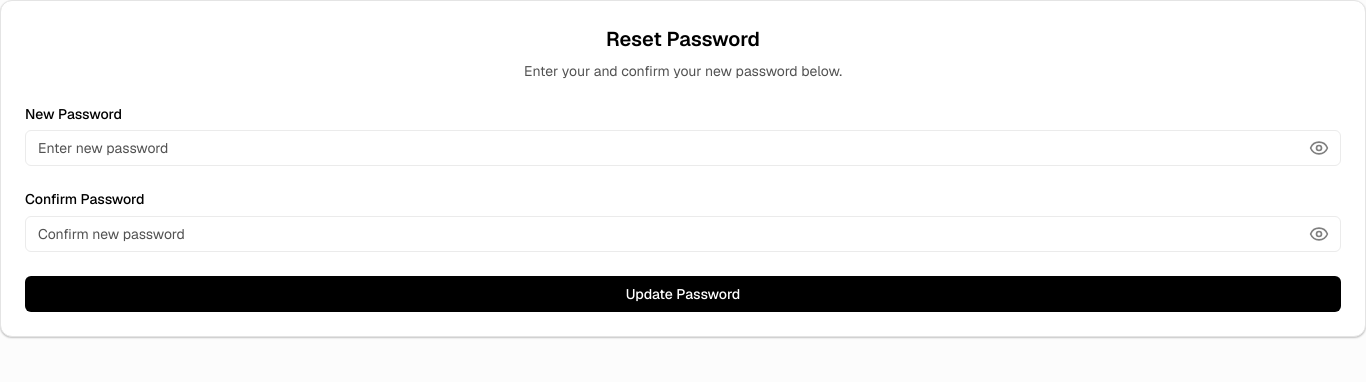
Test: ResetPasswordForm (new) › validates that confirm password matches the password
Type "Password123!" into the password field labelled "New Password". click: (683, 148)
box: [25,130,1341,166]
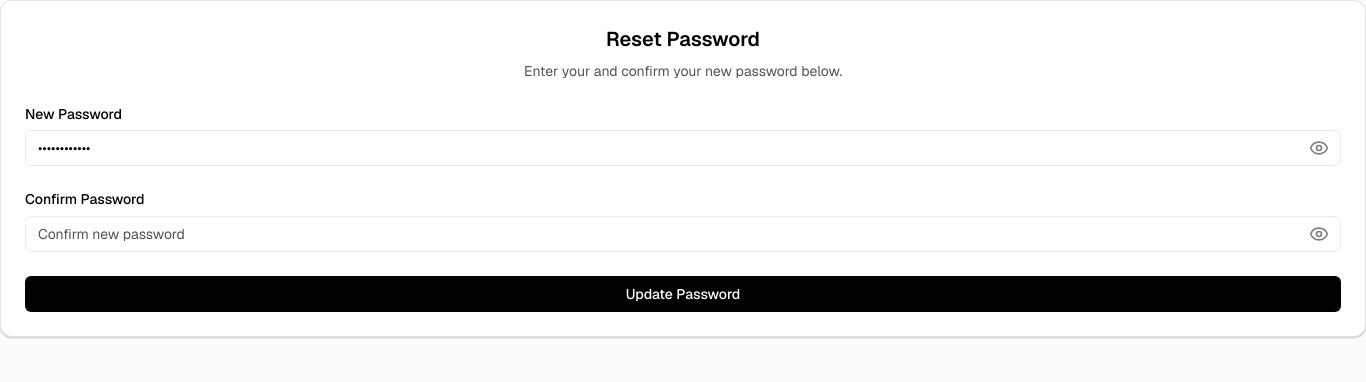
Type "DifferentPassword123!" into the password field labelled "Confirm Password". click: (683, 234)
box: [25,216,1341,252]
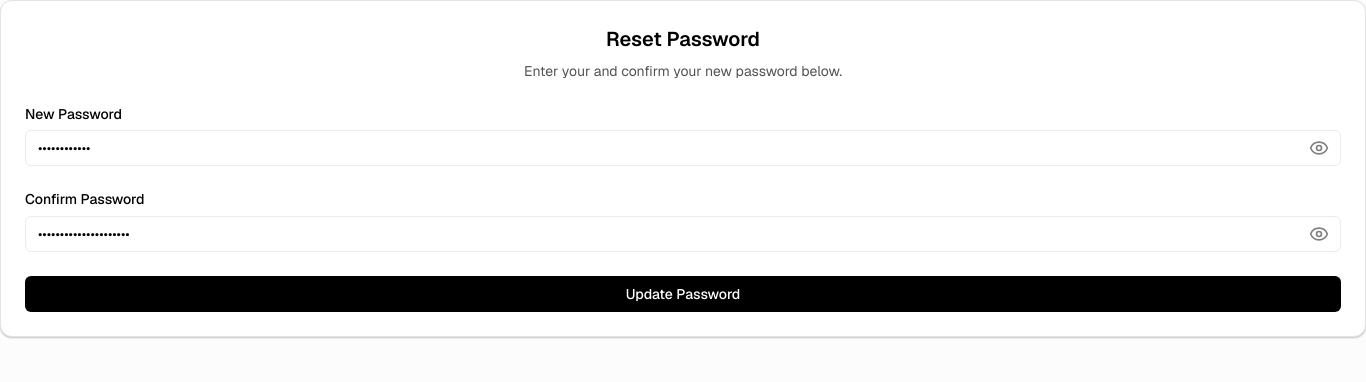
Click the button "Update Password". click: (683, 294)
box: [25,276,1341,312]
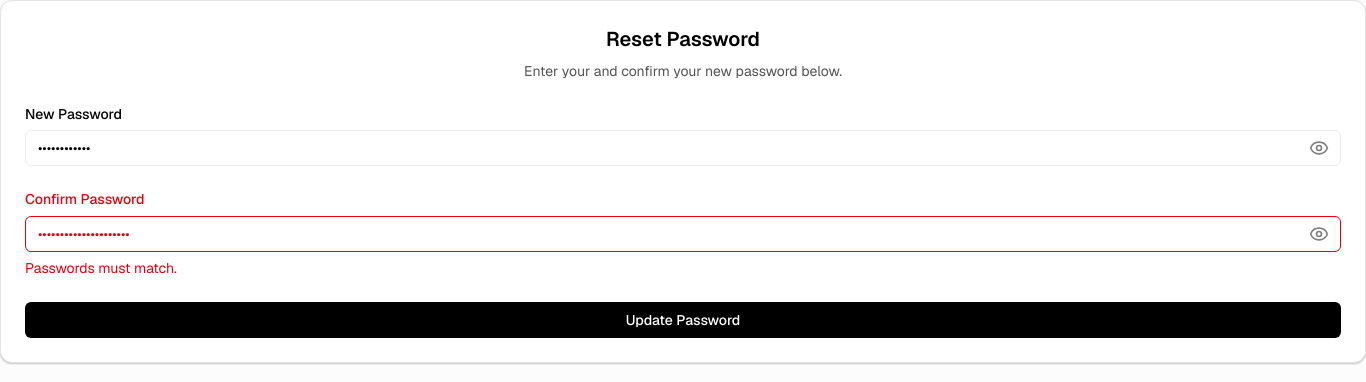
Check: the text "Passwords must match." is shown, box [25,258,177,276]
